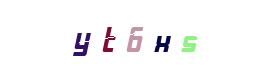6: (89, 0, 169, 80)
S: (149, 0, 229, 80)
T: (75, 0, 155, 80)
X: (97, 0, 177, 80)
Y: (68, 0, 148, 80)
